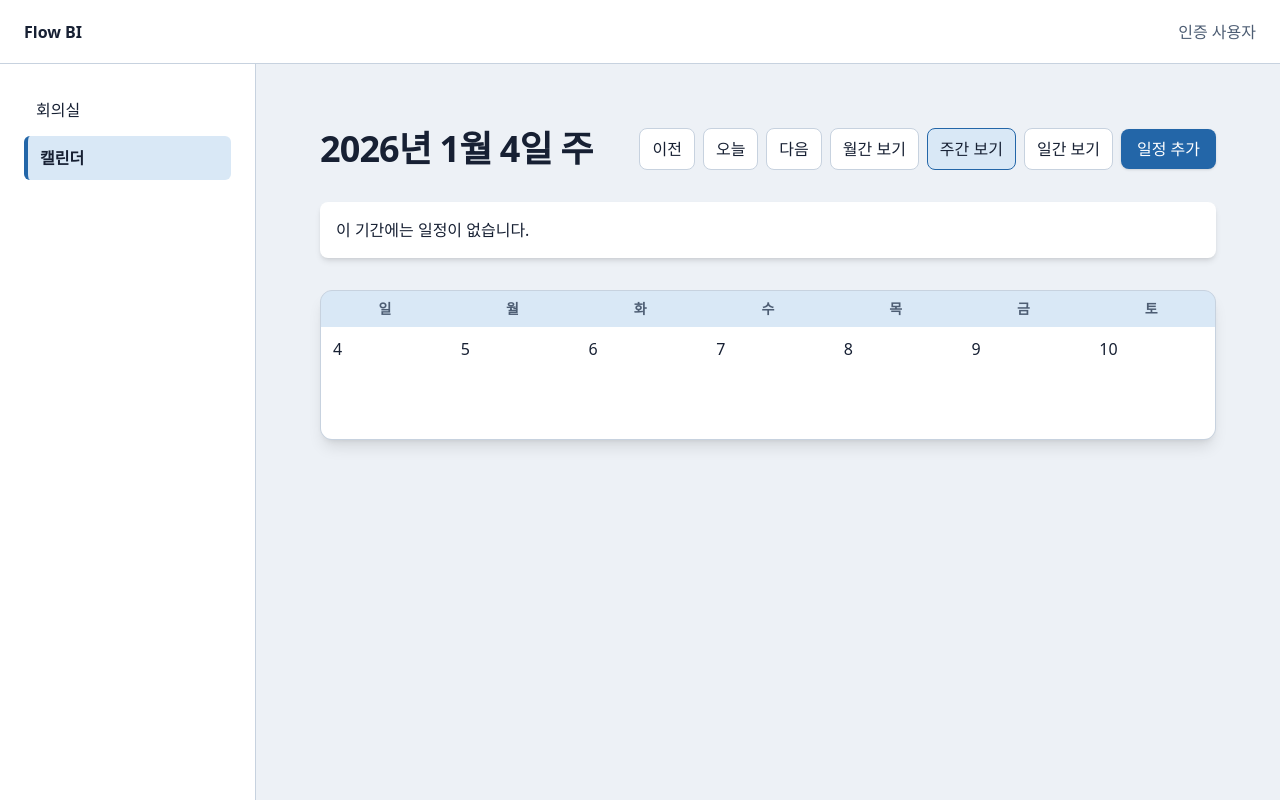
Test case: calendar visual refinement › returns to the injected local today while preserving the current view and URL state
This screenshot has width=1280, height=800.
Click the button "다음" at (794, 149), box [766,128,822,170]
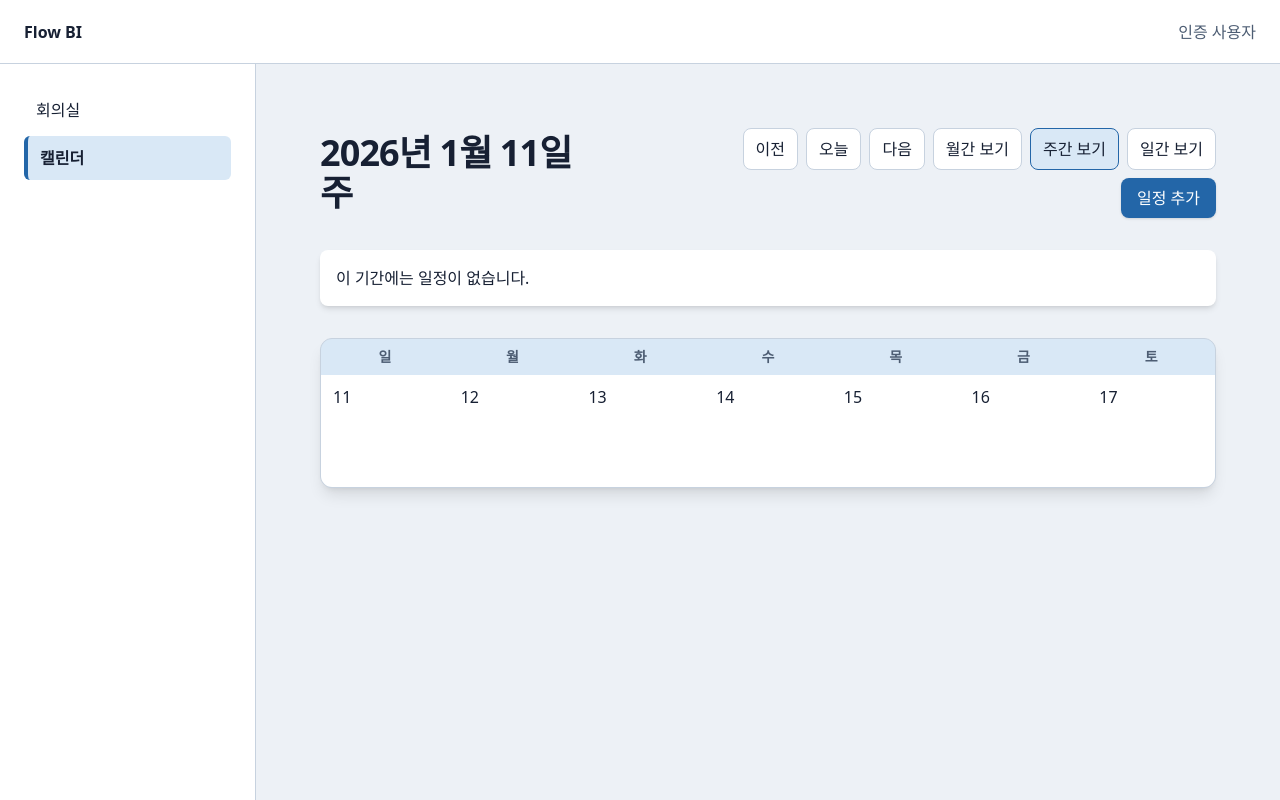
Click the button "오늘" at (834, 149), box [806,128,862,170]
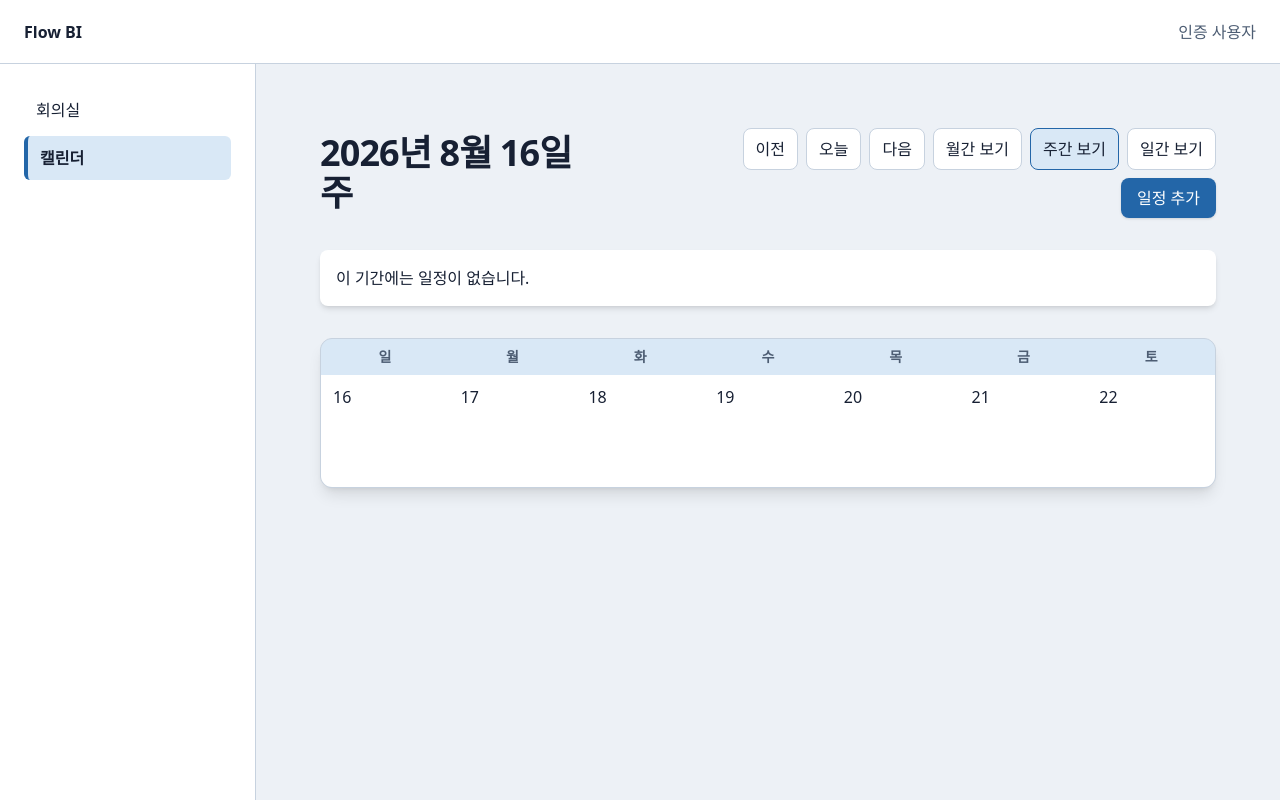
expect the heading "2026년 8월 16일 주" is shown: met, box [320,133,610,213]
